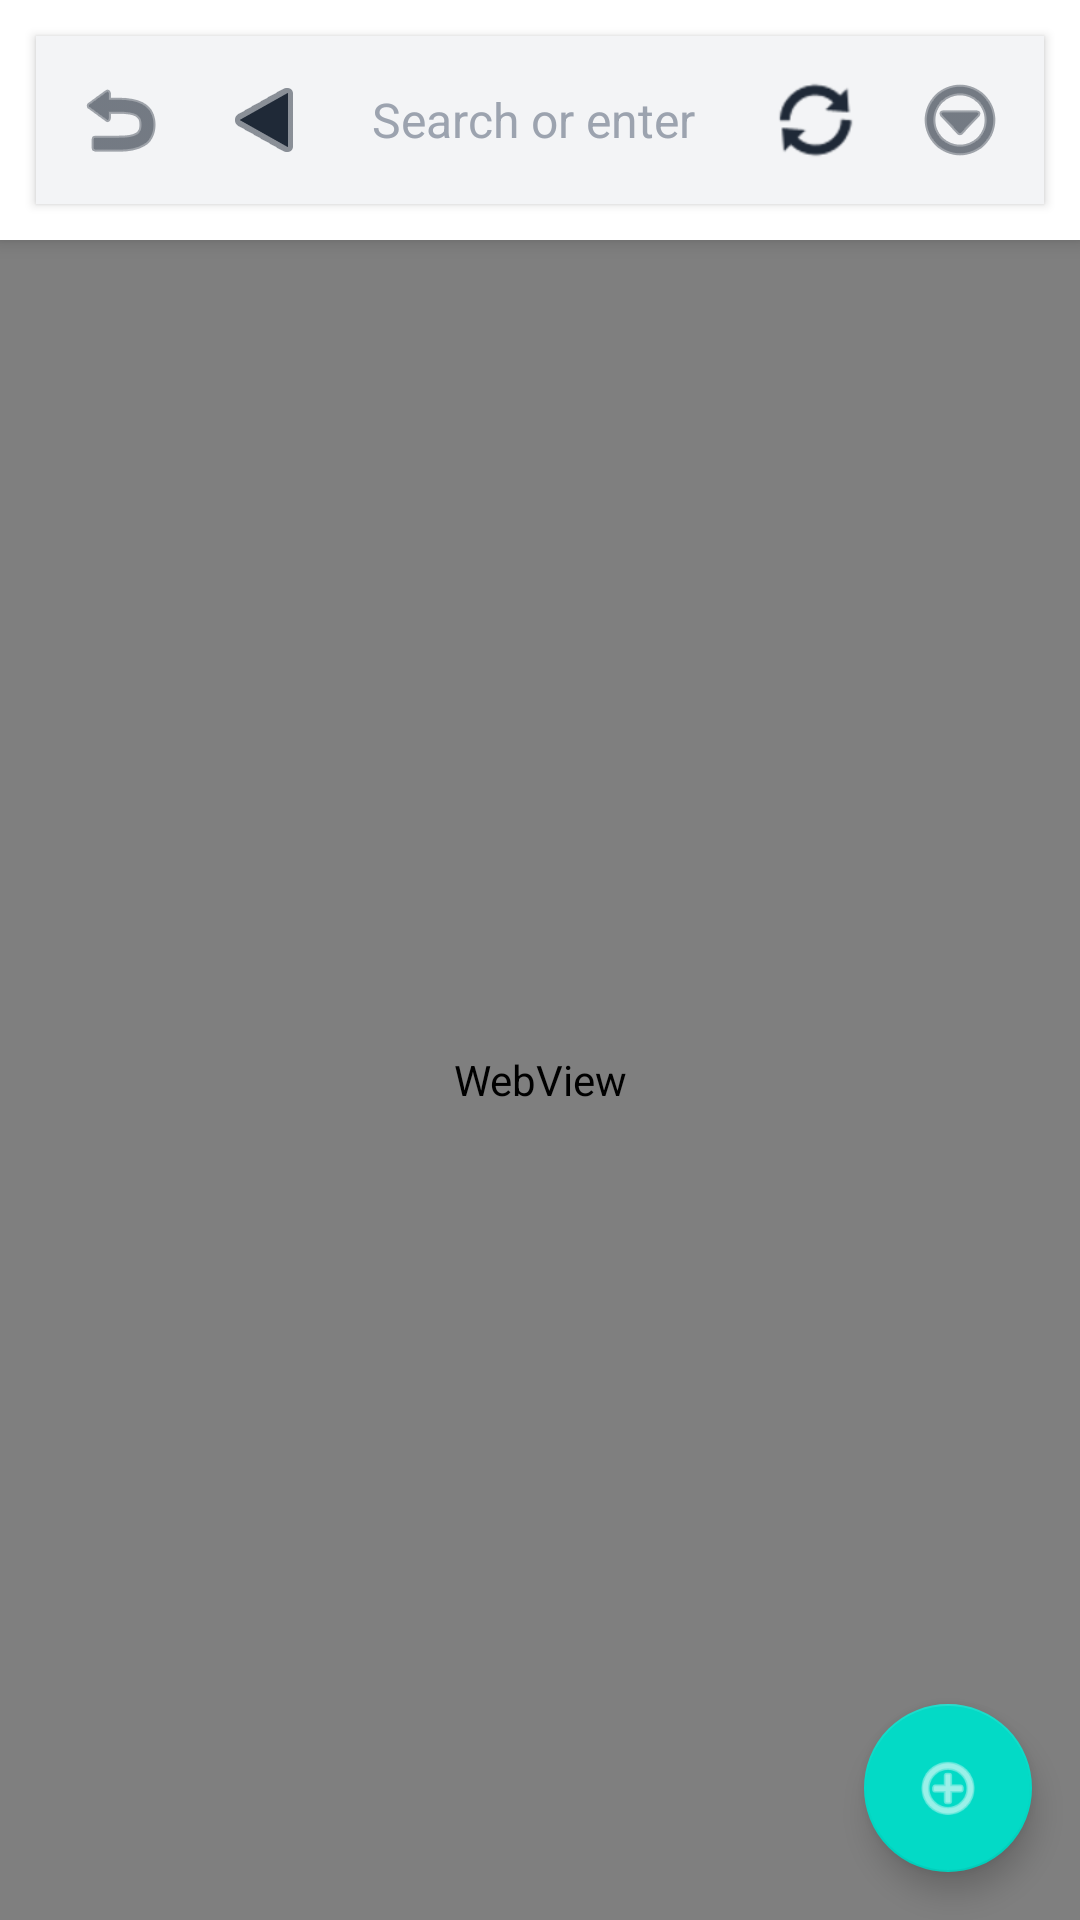

Where icons sit on this 1080px×1920px app screen, as (x1, y1, x2, y2):
Menu: (924, 85, 996, 156)
Refresh: (779, 84, 853, 156)
